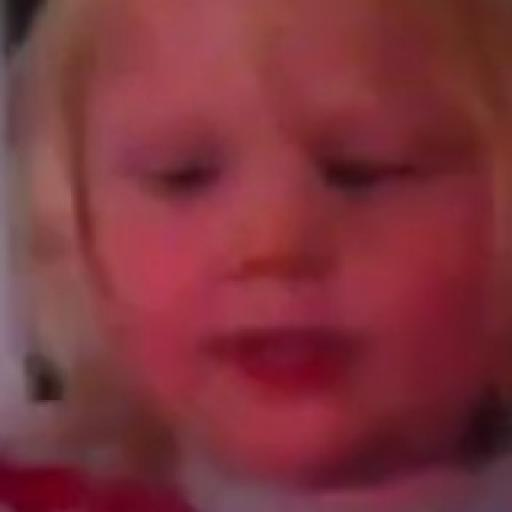Autism: (93, 34, 512, 511)
